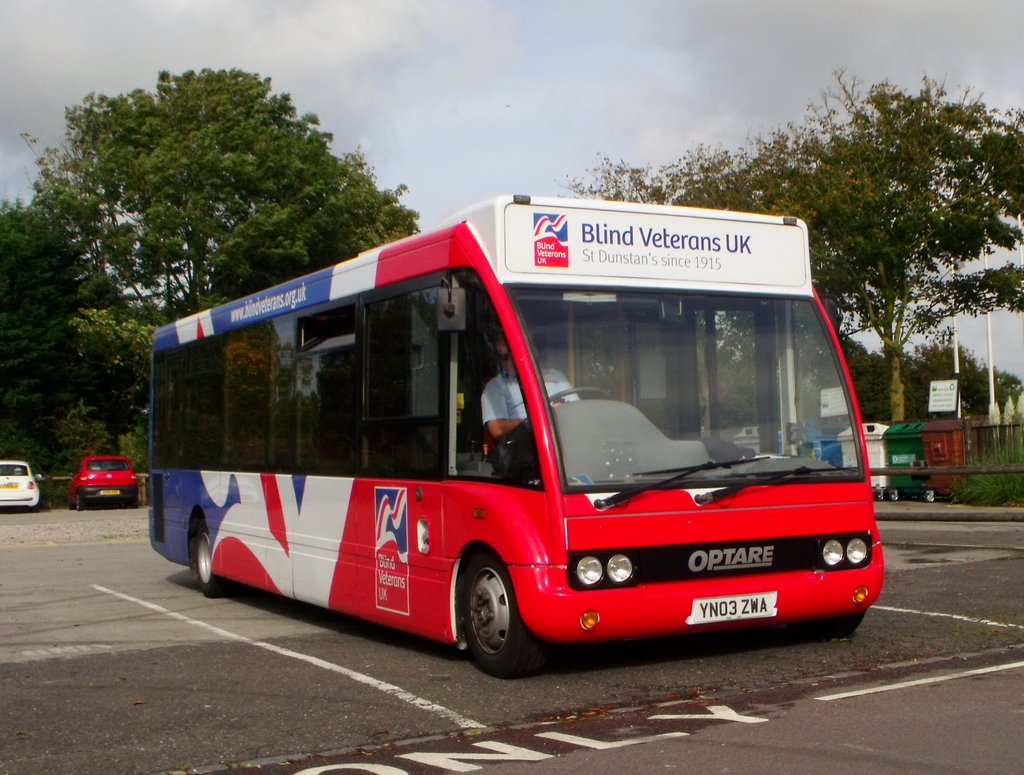Bus: (149, 194, 884, 678)
